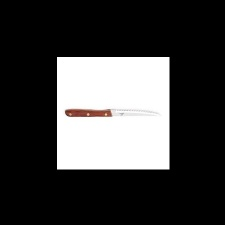k1: (100, 108, 162, 119)
